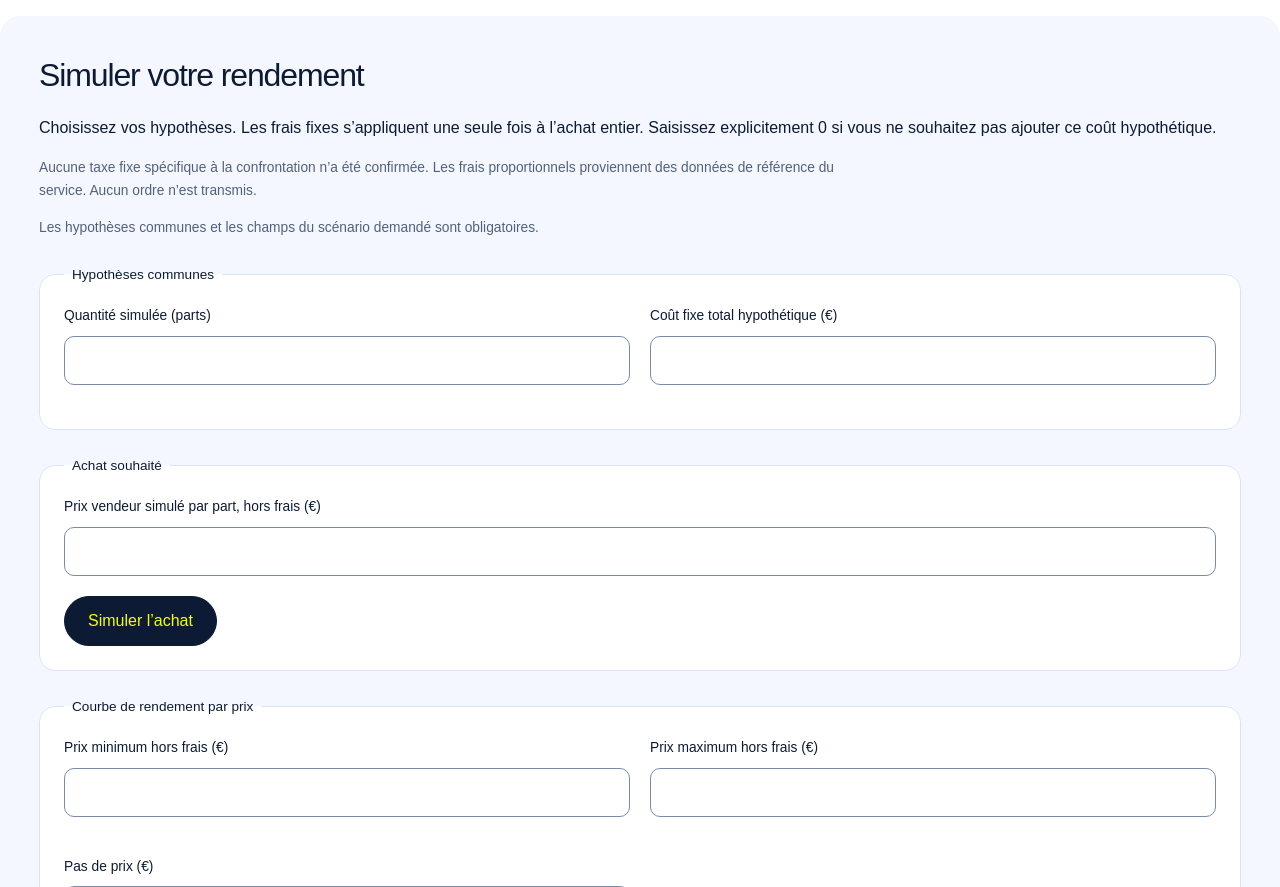
Yield bonus journey › preserves stale provenance and can retry unavailable annual data
The image size is (1280, 887).
Type "10" into the field labelled "Quantité simulée (parts)".
click(347, 360); type("10")  # box [64, 336, 630, 385]
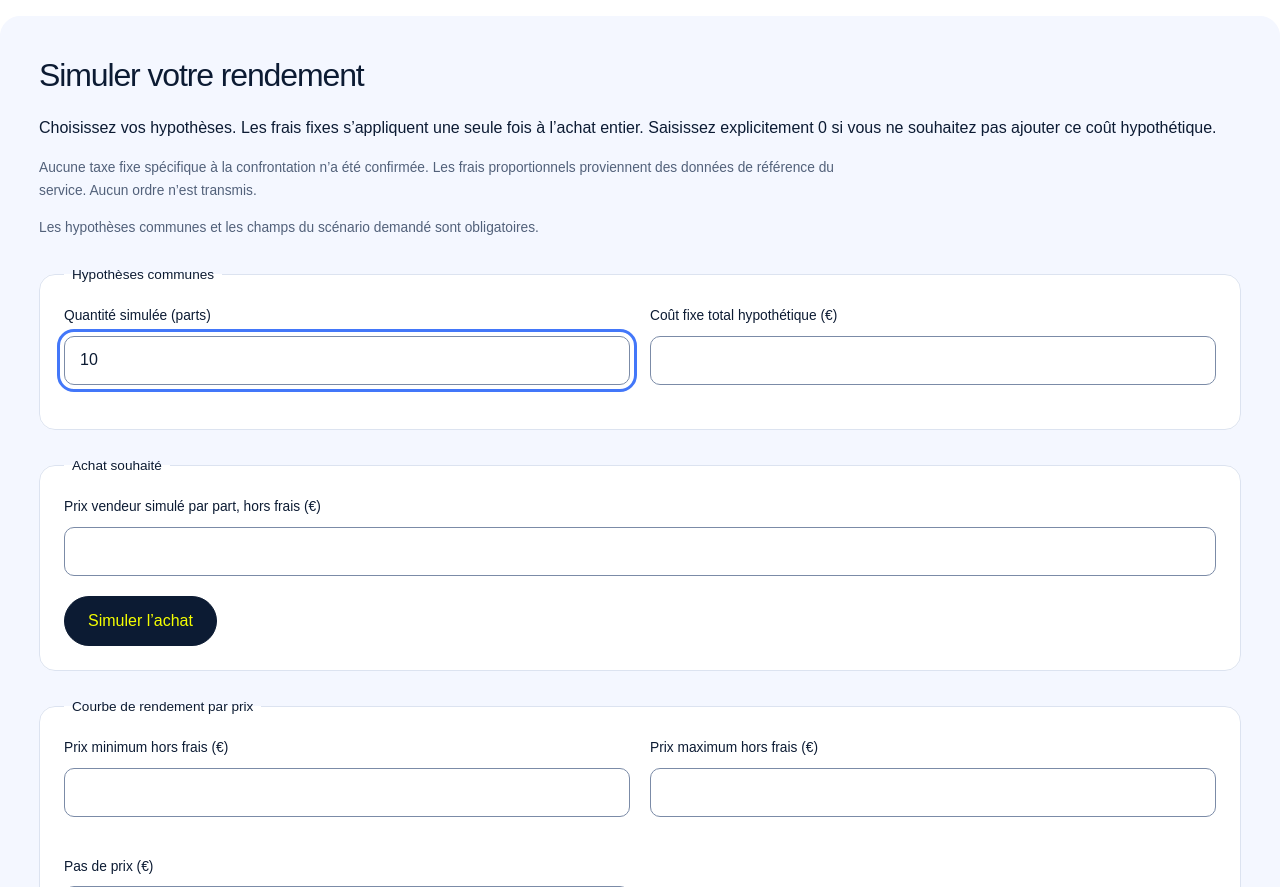
Type "10" into the field labelled "Coût fixe total hypothétique (€)".
click(933, 360); type("10")  # box [650, 336, 1216, 385]
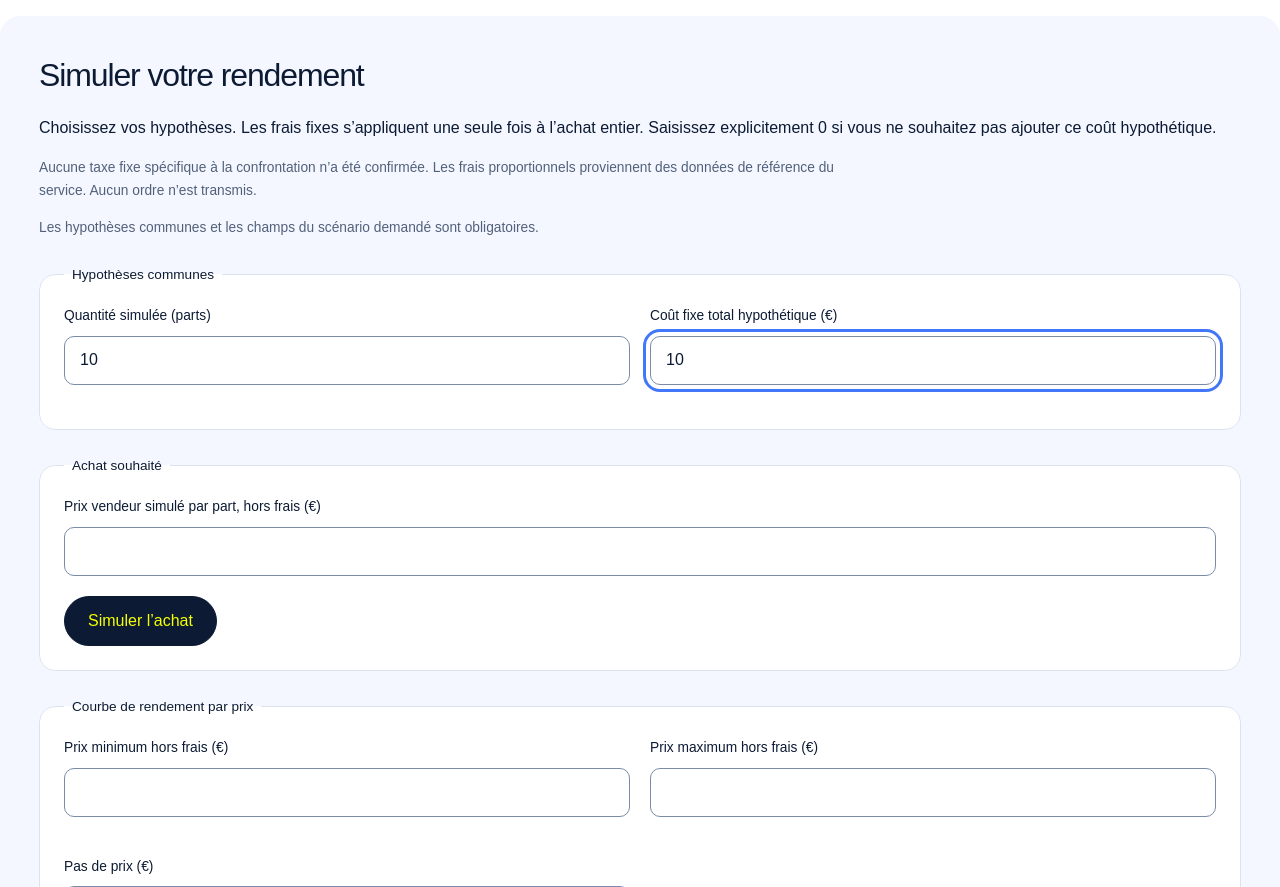
Type "31,88" into the field labelled "Prix vendeur simulé par part, hors frais (€)".
click(640, 551); type("31,88")  # box [64, 526, 1216, 576]
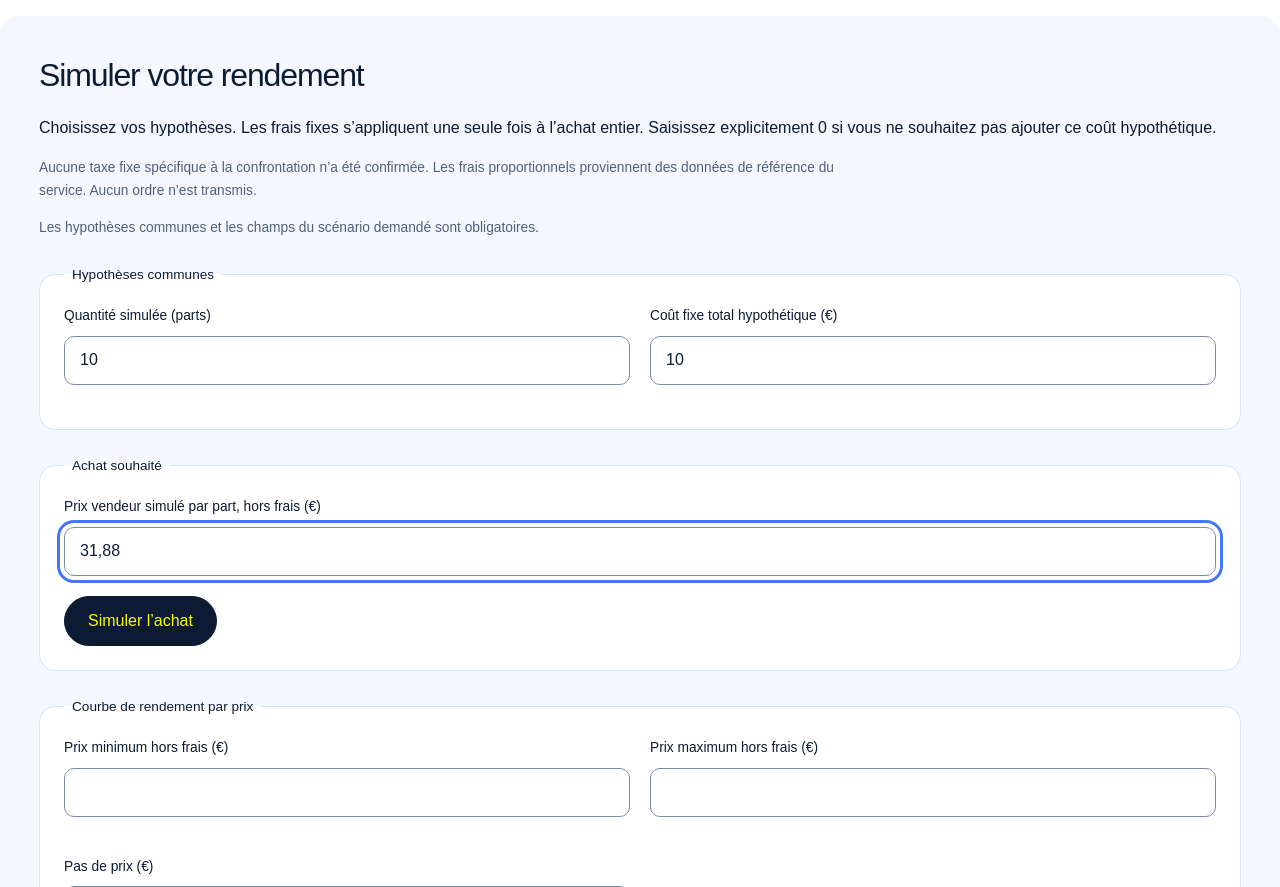
Click the button "Simuler l’achat".
click(140, 621)  # box [64, 596, 217, 646]
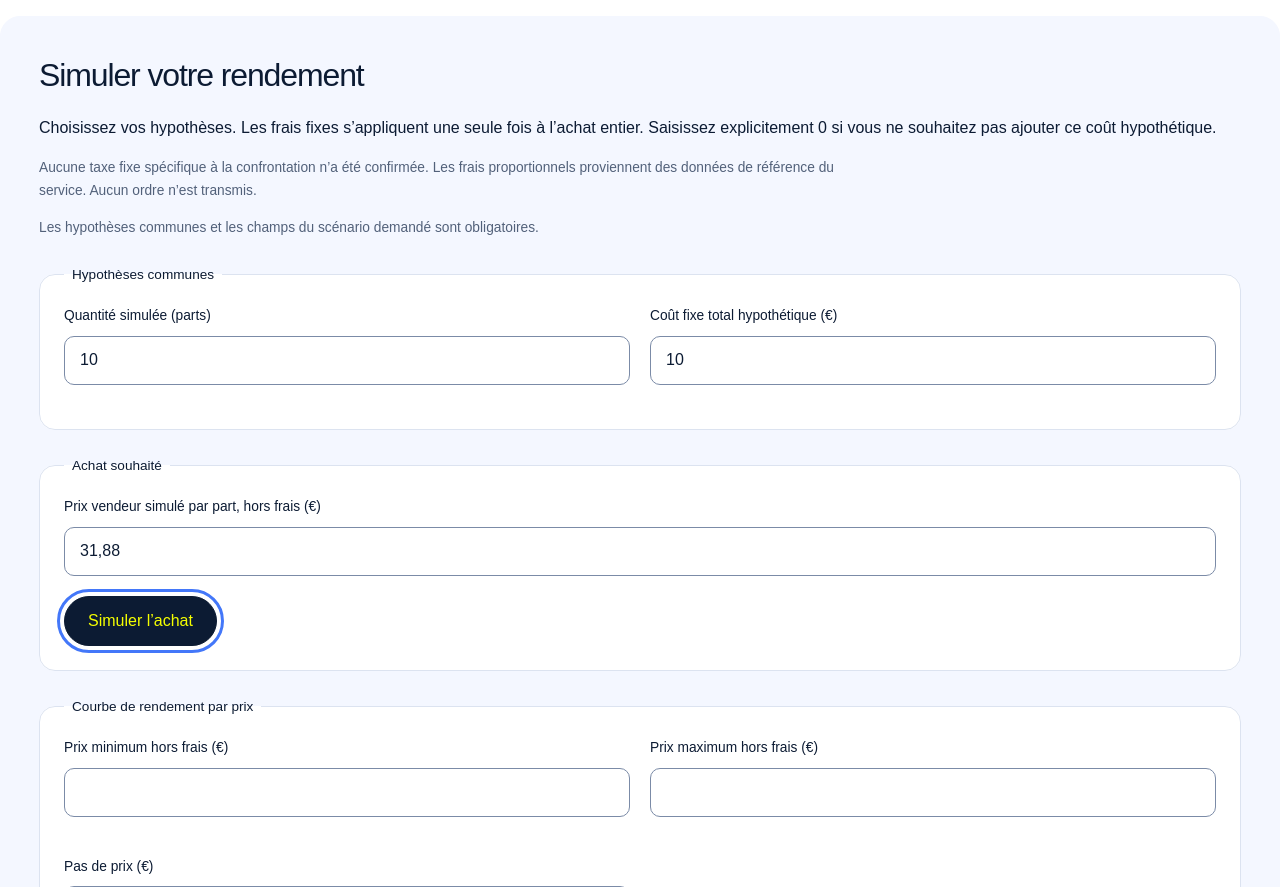
Click the button "Simuler l’achat".
click(140, 621)  # box [64, 596, 217, 646]
(page scrolled)
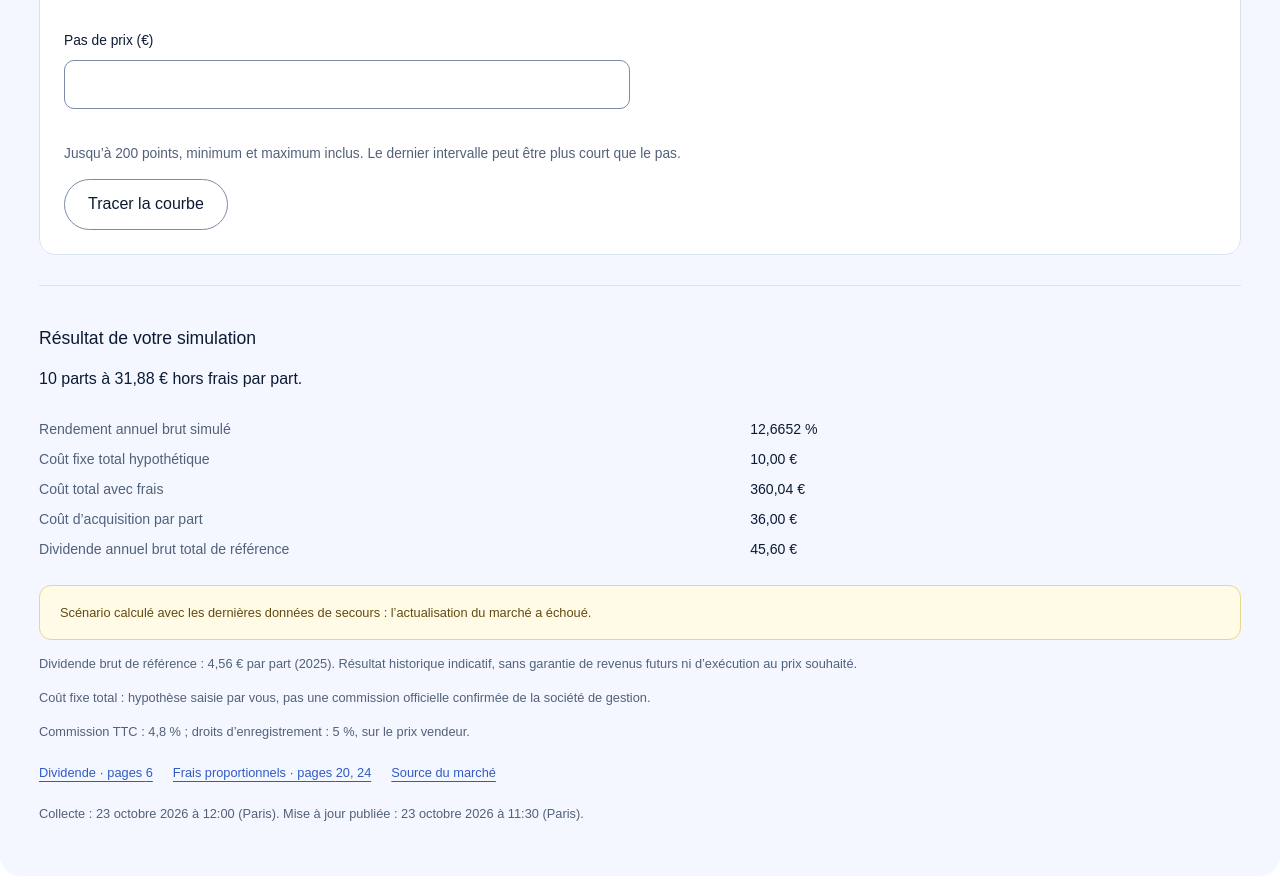
Expected: the text "Scénario calculé avec les dernières données de secours" is shown, [60, 605, 591, 620]
